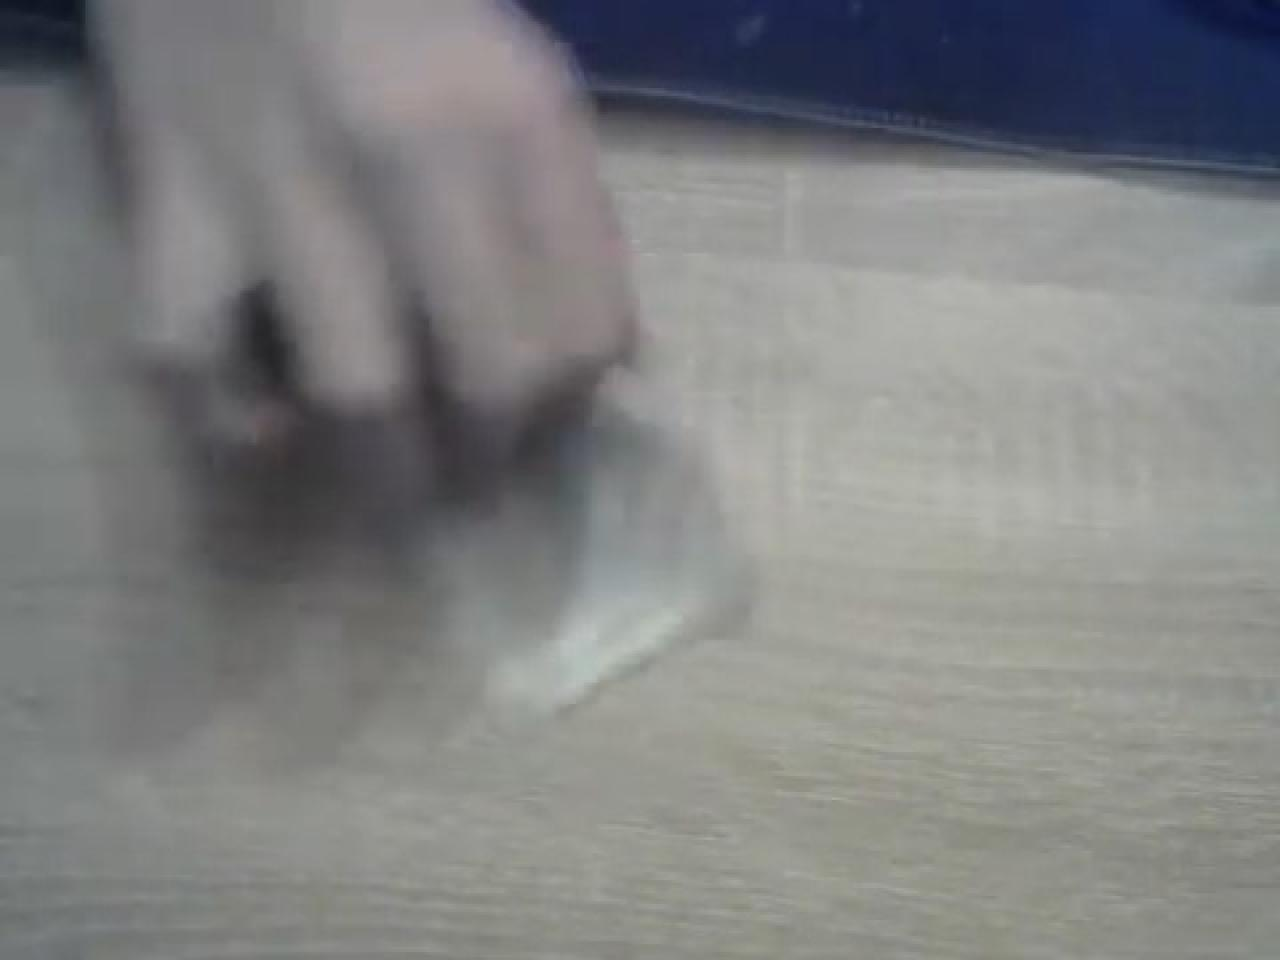10leva: (70, 0, 760, 739)
